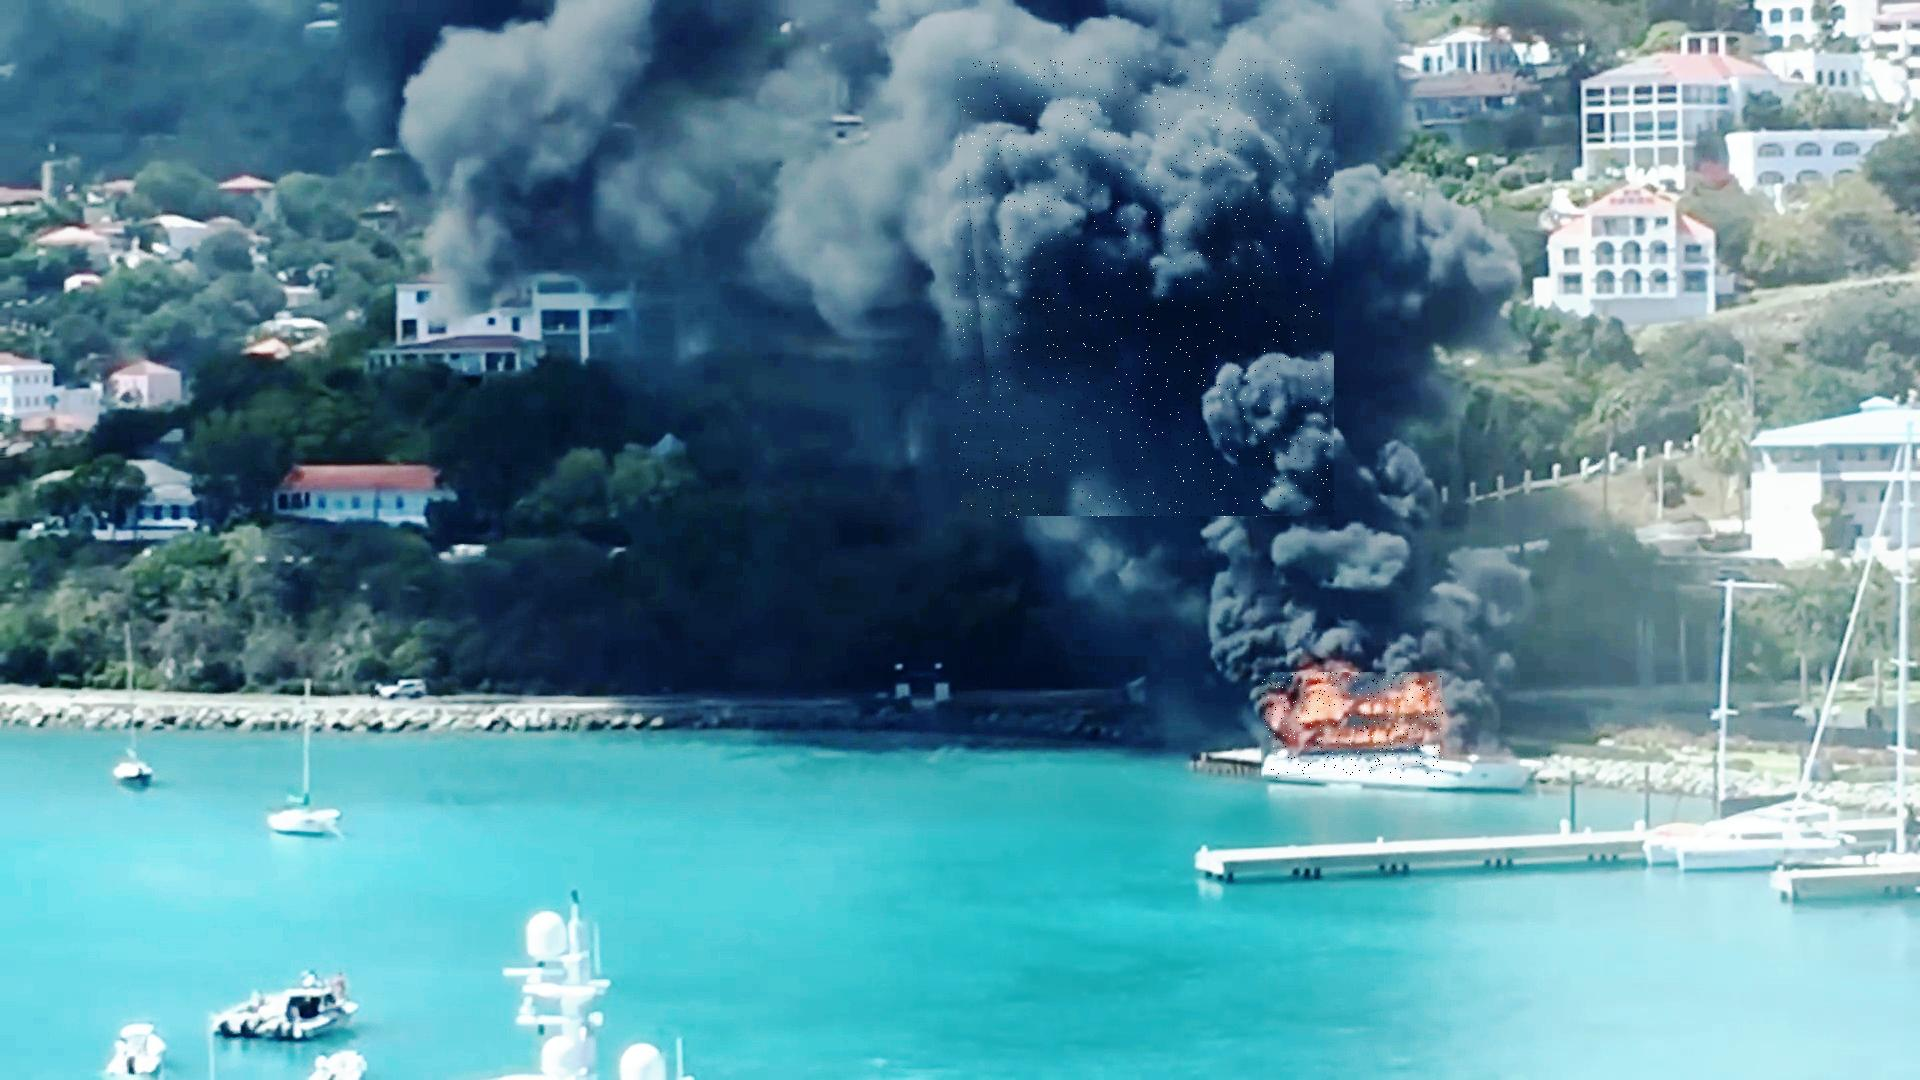fire: (1261, 673, 1443, 779)
smoke: (955, 58, 1335, 518)
